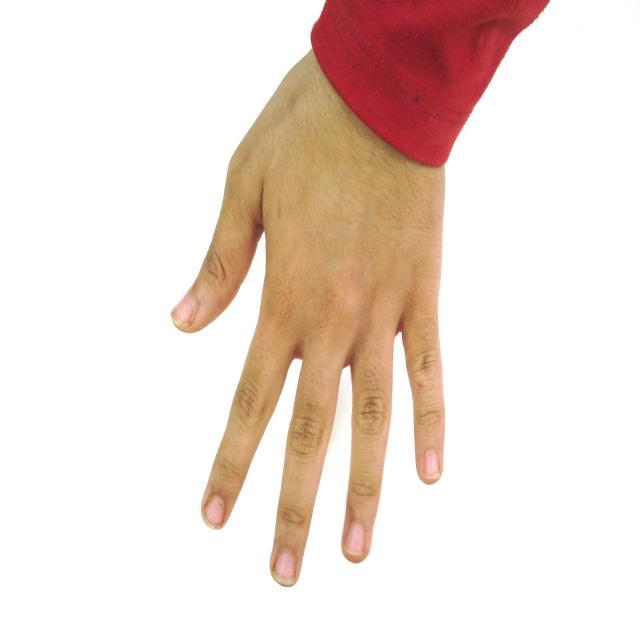Fingernail: (274, 551, 296, 586), (172, 293, 196, 324), (346, 522, 364, 555), (205, 495, 223, 527), (424, 449, 439, 478)
